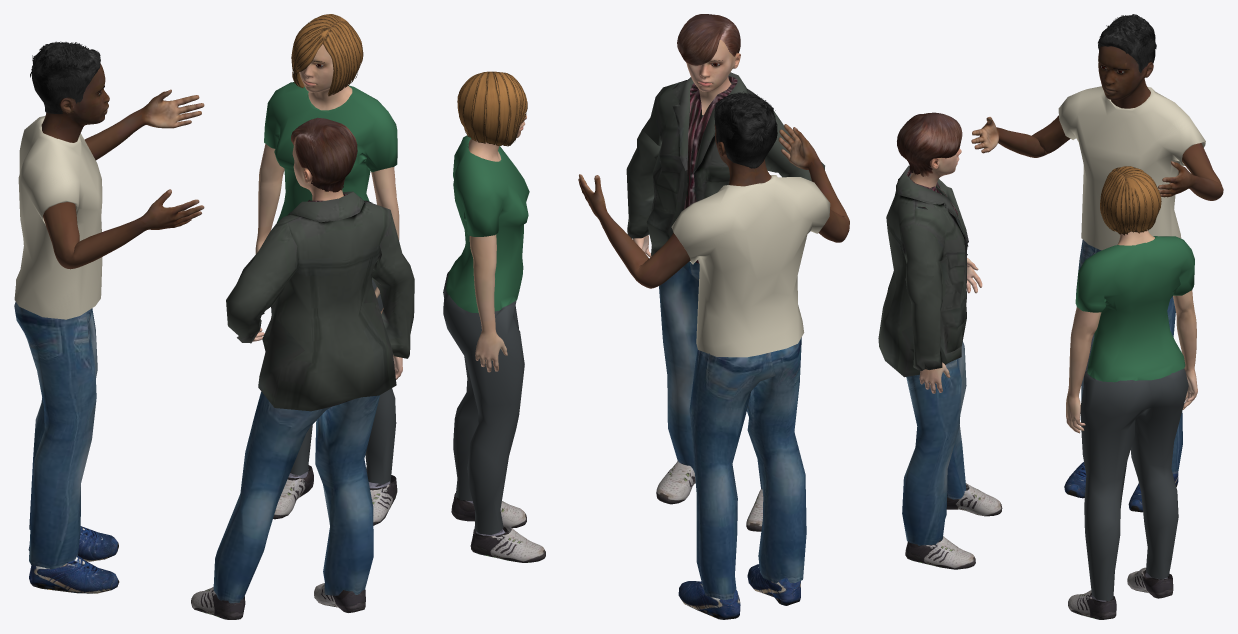
File: station-talking-group.glb
3 views of the same model, side by side, from view 1: azimuth 30°, elevation 25°; view 2: azimuth 150°, elevation 25°; view 3: azimuth 270°, elevation 25° (orthographic). The views are drawn at different scales.
Visible parts, largest first — view 1: male_casualsuit05, male_casualsuit04, female_casualsuit01, Micah | anatomical body, Taylor | anatomical body, bob02, short03, short01, shoes06, shoes05.001, shoes05, Quinn | anatomical body; view 2: male_casualsuit04, female_casualsuit01, male_casualsuit05, Micah | anatomical body, bob02, short01, Taylor | anatomical body, shoes05, shoes06, short03, Quinn | anatomical body, shoes05.001; view 3: female_casualsuit01, male_casualsuit05, male_casualsuit04, Micah | anatomical body, Taylor | anatomical body, bob02, short03, shoes05.001, short01, shoes05, Quinn | anatomical body, shoes06.
Boxes of the visible parts, x1,y1,x2,y2 form: male_casualsuit05: [213, 191, 414, 603]; male_casualsuit04: [14, 116, 102, 569]; female_casualsuit01: [264, 82, 397, 483]; Micah | anatomical body: [41, 63, 204, 269]; Taylor | anatomical body: [255, 44, 399, 313]; bob02: [291, 14, 363, 96]; short03: [291, 117, 357, 192]; short01: [30, 41, 100, 113]; shoes06: [28, 526, 119, 593]; shoes05.001: [191, 583, 365, 619]; shoes05: [273, 465, 397, 525]; Quinn | anatomical body: [253, 137, 402, 379]; male_casualsuit04: [671, 175, 830, 599]; female_casualsuit01: [443, 135, 529, 534]; male_casualsuit05: [626, 72, 824, 488]; Micah | anatomical body: [578, 124, 849, 288]; bob02: [457, 71, 527, 146]; short01: [714, 91, 777, 168]; Taylor | anatomical body: [468, 115, 526, 372]; shoes05: [451, 493, 545, 562]; shoes06: [678, 564, 800, 619]; short03: [677, 14, 740, 65]; Quinn | anatomical body: [633, 40, 740, 257]; shoes05.001: [656, 461, 763, 531]; female_casualsuit01: [1075, 236, 1194, 601]; male_casualsuit05: [878, 165, 968, 545]; male_casualsuit04: [1058, 86, 1205, 474]; Micah | anatomical body: [971, 46, 1223, 200]; Taylor | anatomical body: [1066, 230, 1197, 433]; bob02: [1100, 166, 1161, 235]; short03: [897, 112, 962, 176]; shoes05.001: [905, 483, 1002, 569]; short01: [1098, 14, 1156, 72]; shoes05: [1068, 567, 1173, 619]; Quinn | anatomical body: [910, 148, 982, 393]; shoes06: [1064, 462, 1178, 512].
Bounding box in the file's own units: 1.36 × 1.83 × 1.21.
27 materials, 27 textured.
